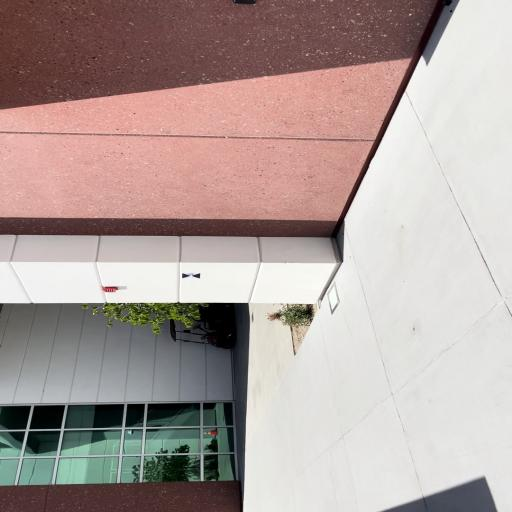target6: (181, 272, 200, 280)
